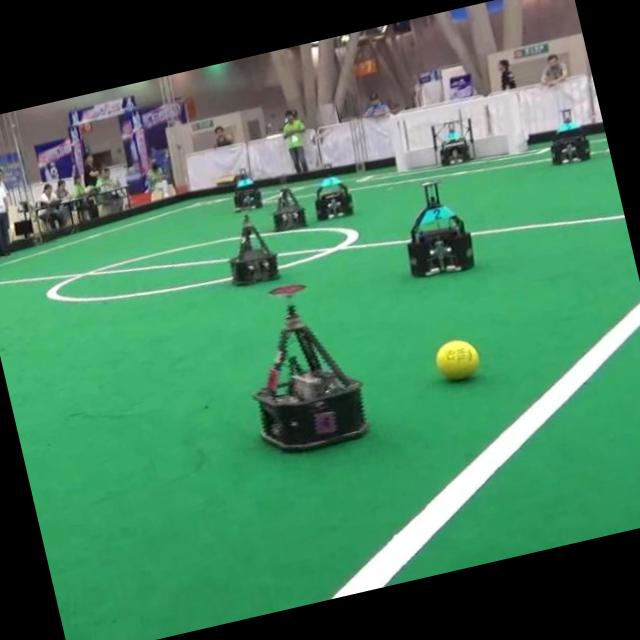ball: (435, 338, 479, 379)
goal: (495, 92, 517, 153), (389, 113, 408, 171)
robot: (254, 304, 366, 449), (407, 180, 473, 274), (229, 214, 278, 284), (550, 114, 589, 163), (432, 118, 473, 164), (314, 175, 352, 218), (272, 186, 305, 229), (234, 171, 262, 209)
